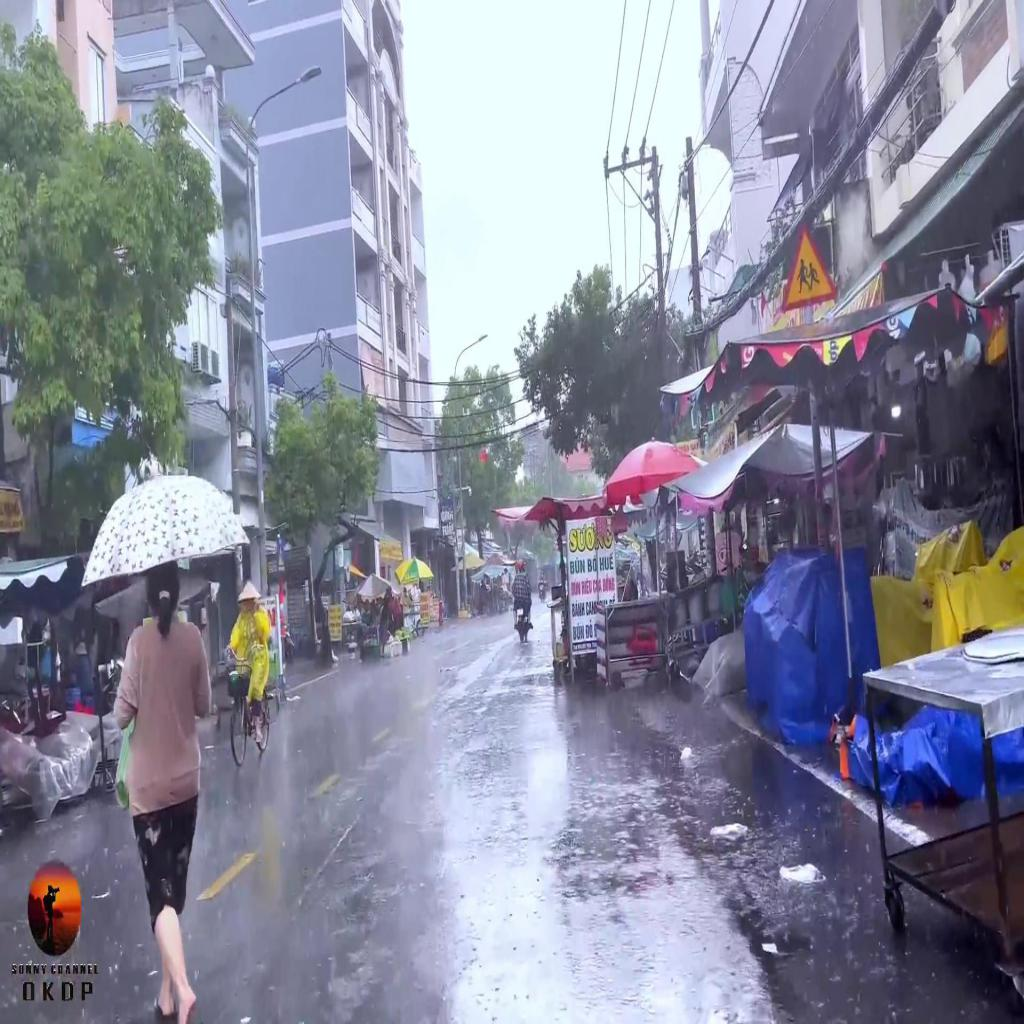chu_y_tre_em: (778, 219, 840, 315)
